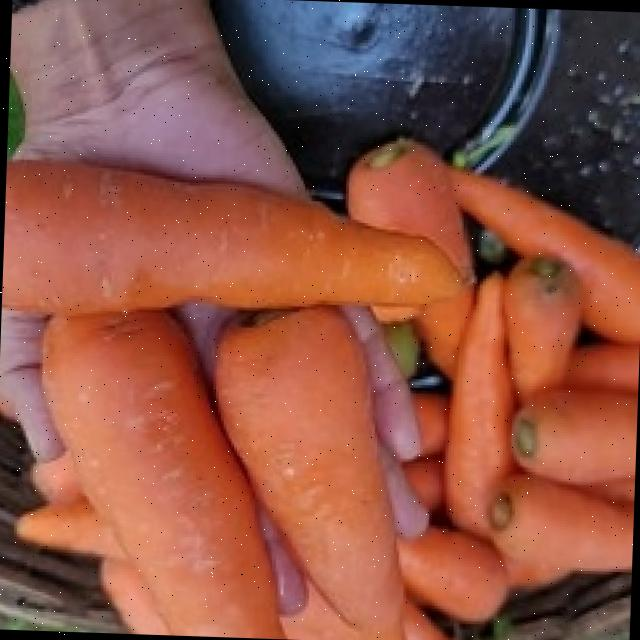carrot: (6, 145, 640, 640), (6, 166, 464, 315)
